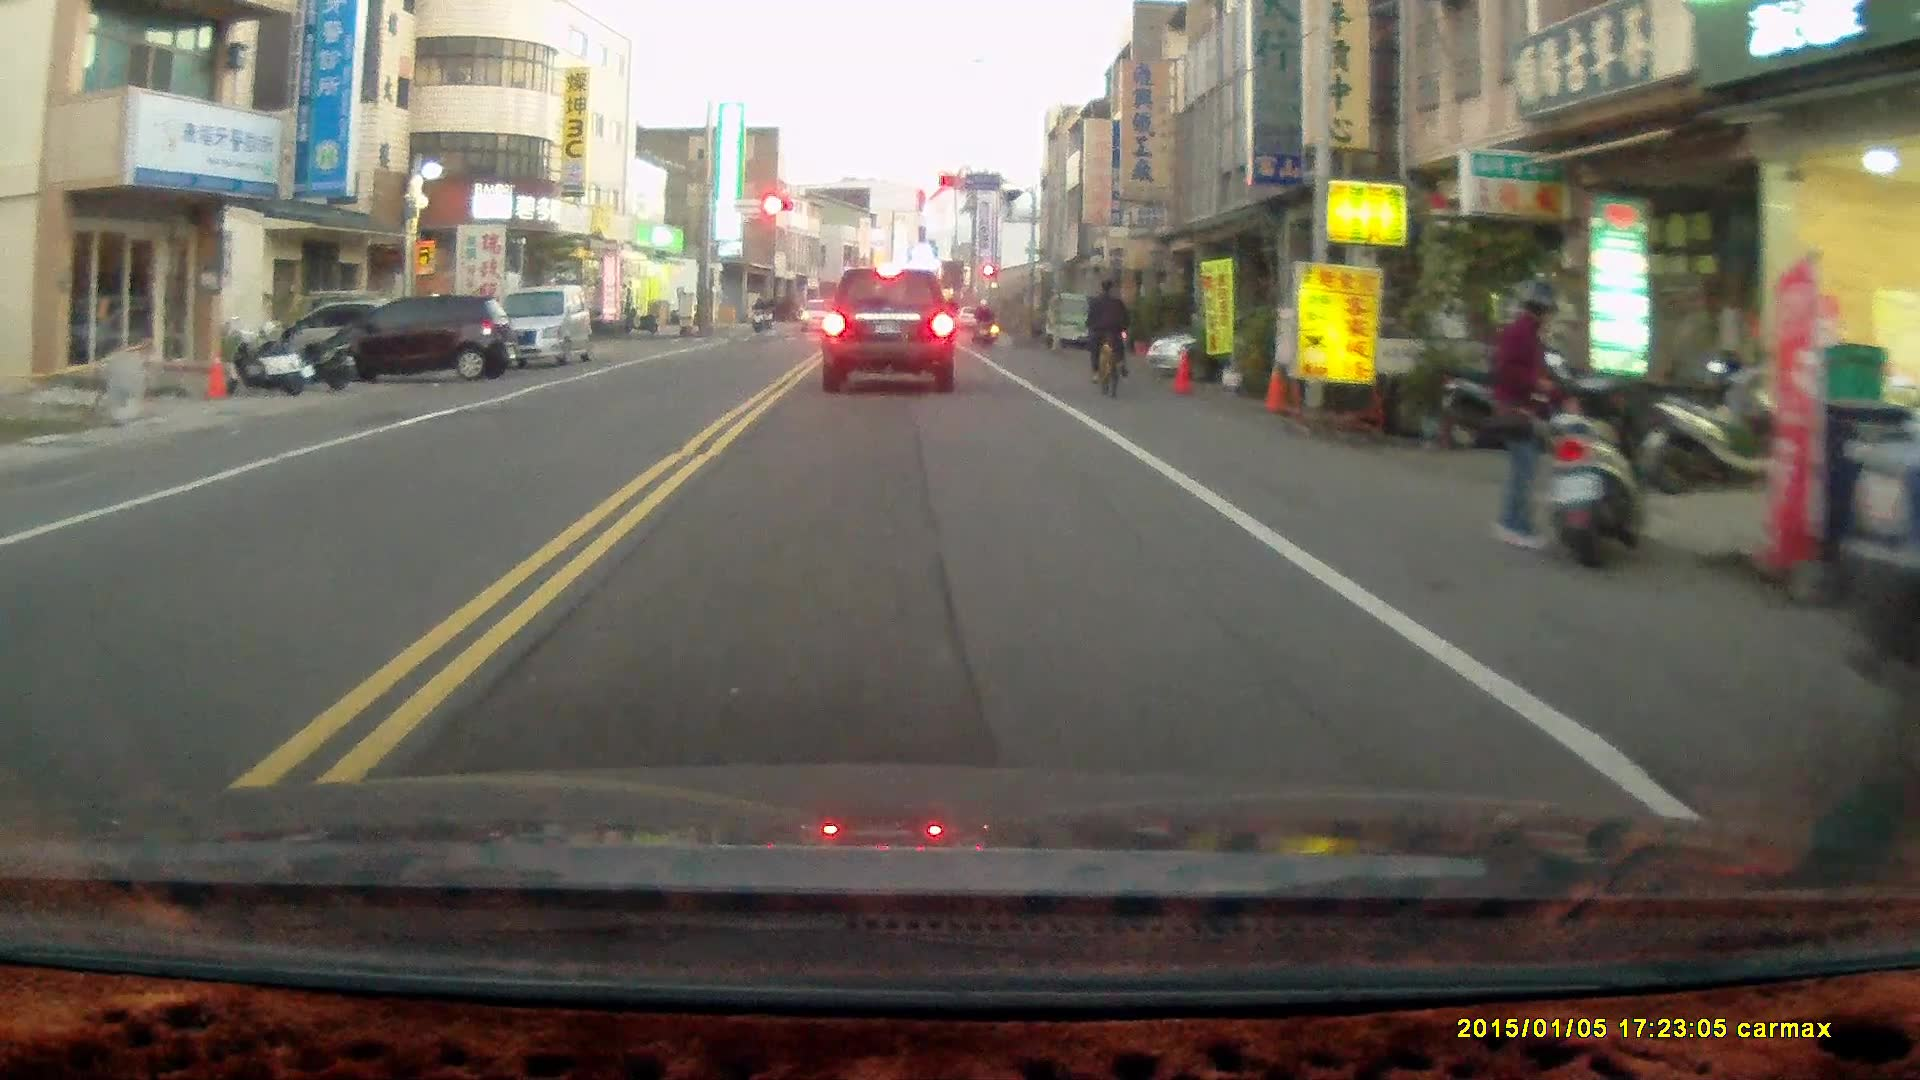pedestrian: (1487, 276, 1575, 548)
rider: (1085, 274, 1134, 397), (971, 293, 996, 346), (748, 294, 770, 334)
vehicle: (321, 291, 515, 389), (820, 266, 958, 395), (1145, 312, 1371, 382), (471, 282, 595, 368)
